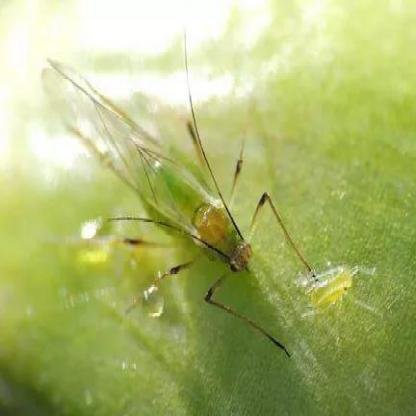aphid: (32, 44, 288, 320), (292, 240, 376, 328)
